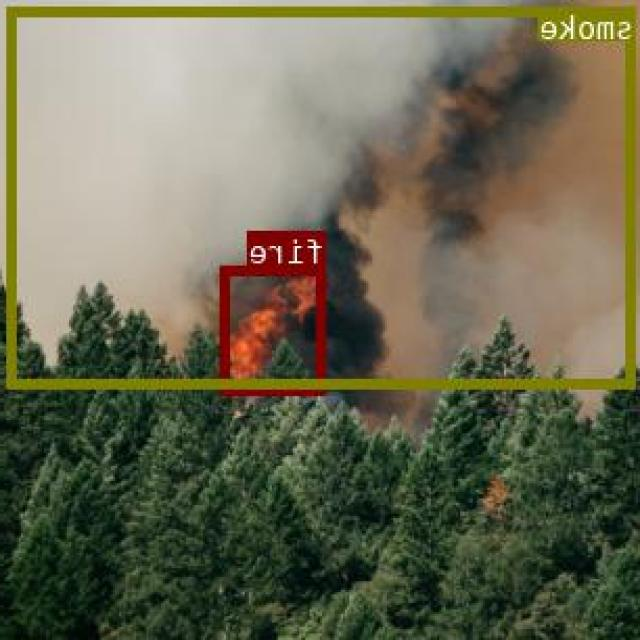fire: (224, 265, 326, 393)
smoke: (9, 5, 636, 387)
